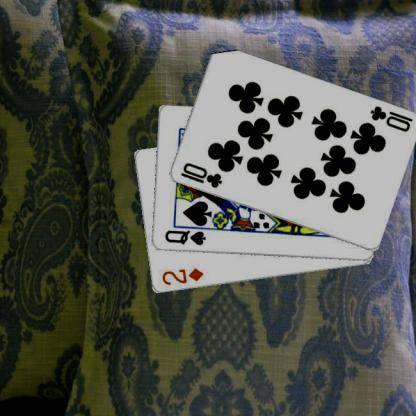10C: (368, 103, 414, 133), (178, 160, 224, 189)
2D: (159, 266, 204, 286)
QS: (162, 228, 207, 247)
